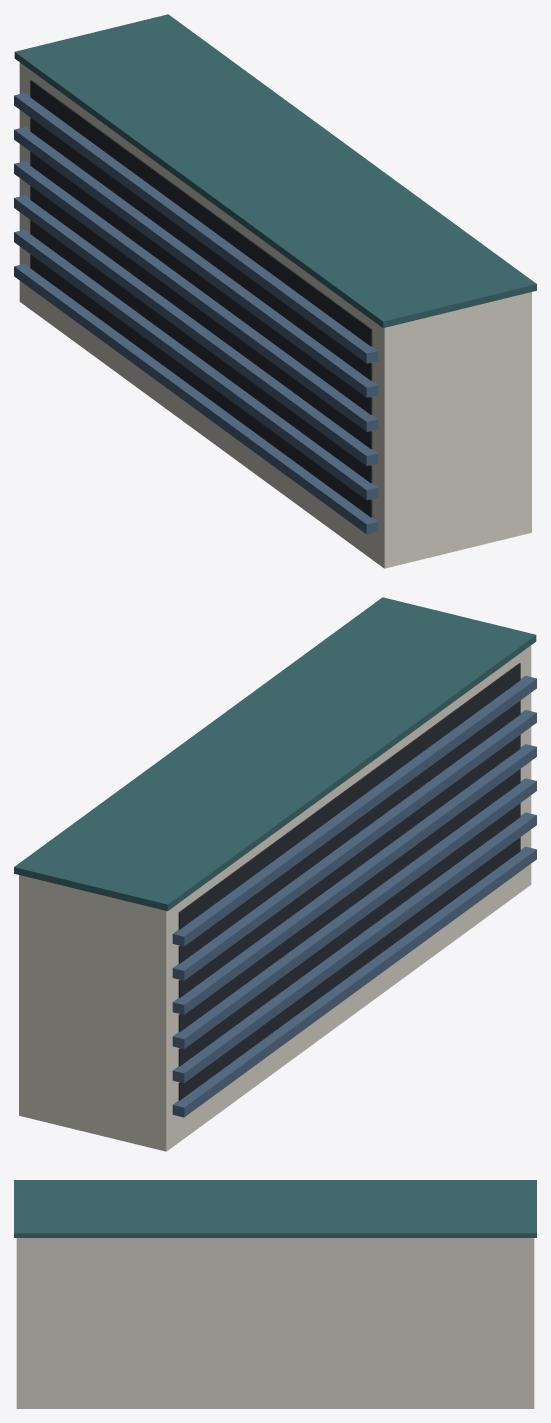
File: theme-resort-1.glb
3 views of the same model, one above another, from view 1: azimuth 30°, elevation 25°; view 2: azimuth 150°, elevation 25°; view 3: azimuth 270°, elevation 25° (orthographic). The views are drawn at different scales.
Visible parts, largest first — view 1: 01_#3f6f73_noshadow, 00_#e8e4d8, 02_#55708a_noshadow, 03_#2e333b_noshadow; view 2: 01_#3f6f73_noshadow, 00_#e8e4d8, 02_#55708a_noshadow, 03_#2e333b_noshadow; view 3: 00_#e8e4d8, 01_#3f6f73_noshadow.
Part boxes in pixels (x1,y1,x2,y2): 01_#3f6f73_noshadow: [14, 14, 536, 328]; 00_#e8e4d8: [19, 62, 531, 568]; 02_#55708a_noshadow: [14, 92, 378, 534]; 03_#2e333b_noshadow: [30, 80, 372, 517]; 01_#3f6f73_noshadow: [14, 597, 536, 911]; 00_#e8e4d8: [19, 645, 531, 1151]; 02_#55708a_noshadow: [172, 675, 536, 1117]; 03_#2e333b_noshadow: [178, 663, 520, 1100]; 00_#e8e4d8: [16, 1238, 534, 1408]; 01_#3f6f73_noshadow: [14, 1180, 536, 1237].
Bounding box in the file's own units: 15.4 × 22.6 × 60.6.
